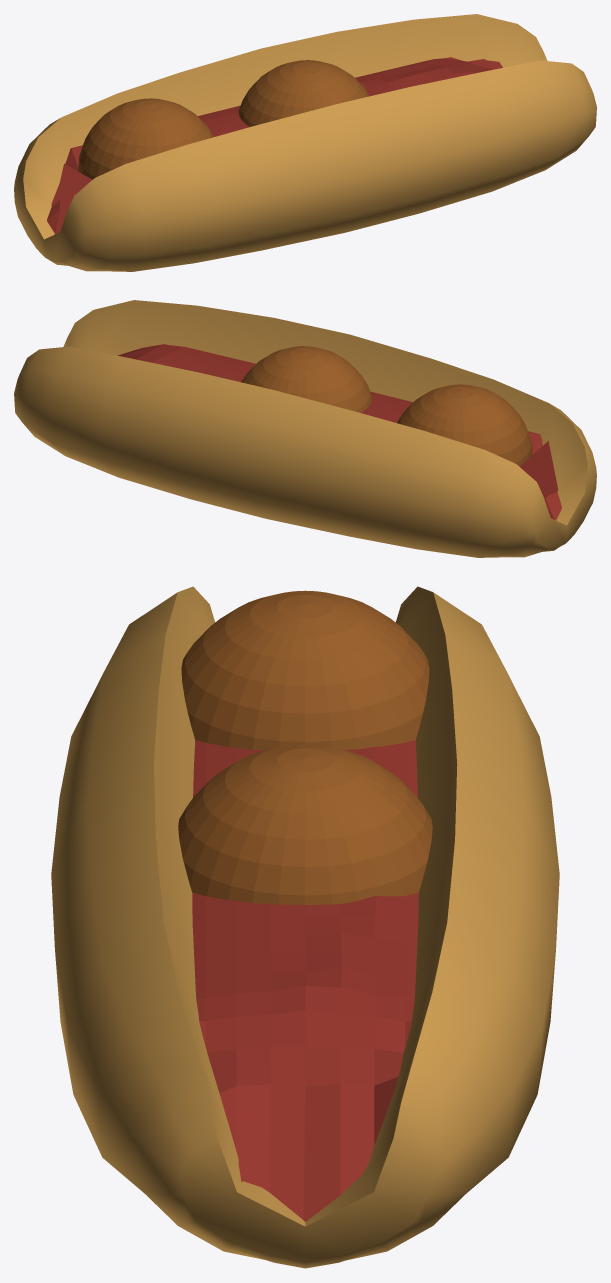
Rendered from 2_3_bun.fbx.
3 views of the same model, one above another, from view 1: azimuth 30°, elevation 25°; view 2: azimuth 150°, elevation 25°; view 3: azimuth 270°, elevation 25° (orthographic). The views are drawn at different scales.
Visible parts, largest first — view 1: Hotdog, Sphere.002, Sphere.001, Cylinder; view 2: Hotdog, Sphere.002, Sphere.001, Cylinder; view 3: Hotdog, Cylinder, Sphere.001, Sphere.002.
Boxes of the visible parts, bbox=[...] form: Hotdog: bbox=[14, 14, 596, 271]; Sphere.002: bbox=[78, 98, 213, 179]; Sphere.001: bbox=[238, 60, 369, 126]; Cylinder: bbox=[47, 57, 502, 234]; Hotdog: bbox=[14, 300, 596, 557]; Sphere.002: bbox=[397, 384, 532, 466]; Sphere.001: bbox=[241, 346, 372, 412]; Cylinder: bbox=[118, 344, 561, 520]; Hotdog: bbox=[51, 586, 559, 1268]; Cylinder: bbox=[192, 740, 418, 1221]; Sphere.001: bbox=[178, 744, 432, 904]; Sphere.002: bbox=[181, 590, 429, 750].
Bounding box in the file's own units: 50.47 × 14 × 21.02.
